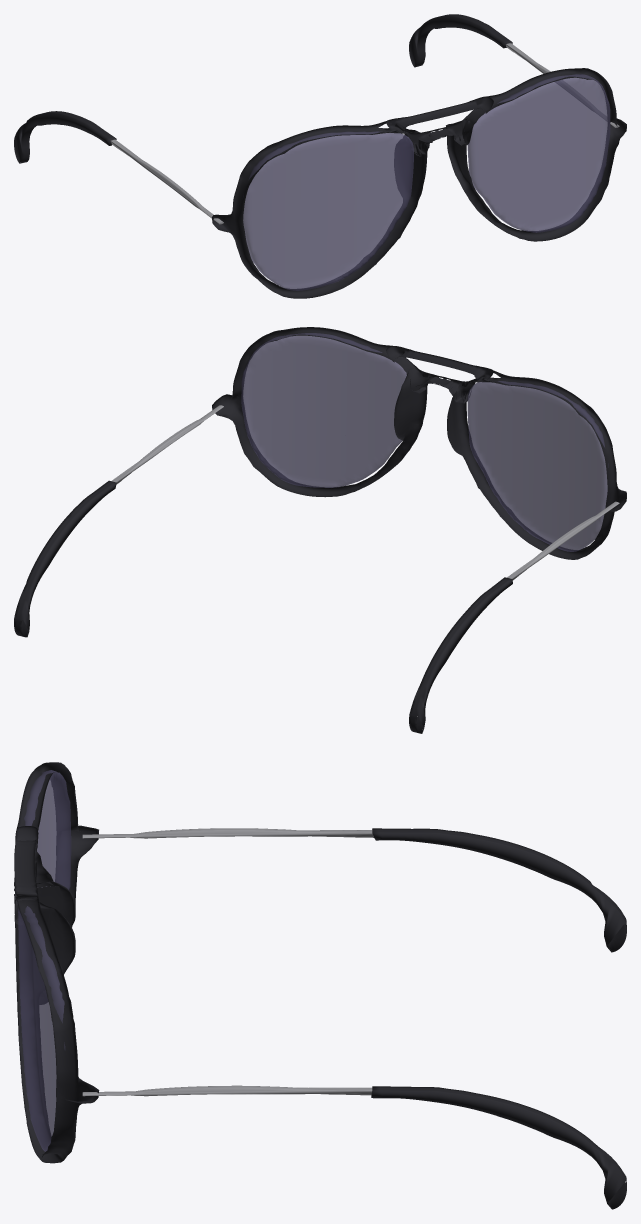
Rendered from model.plain.glb.
3 renders of one model, top to bottom at view 1: azimuth 30°, elevation 25°; view 2: azimuth 150°, elevation 25°; view 3: azimuth 270°, elevation 25°, orthographic. The views are drawn at different scales.
Parts seen in each view (by area): view 1: glass, cover_1_2, cover, cover_2, rod_2_3; view 2: glass, cover_1_2, cover, cover_2, rod_2_3; view 3: cover_1_2, glass, cover, rod_2_3, cover_2.
Part boxes in pixels (x1=…): glass: x1=243, y1=74, x2=610, y2=290; cover_1_2: x1=212, y1=68, x2=626, y2=298; cover: x1=14, y1=14, x2=512, y2=163; cover_2: x1=386, y1=96, x2=493, y2=156; rod_2_3: x1=110, y1=43, x2=619, y2=224; glass: x1=241, y1=333, x2=608, y2=551; cover_1_2: x1=212, y1=327, x2=626, y2=559; cover: x1=14, y1=480, x2=512, y2=733; cover_2: x1=386, y1=346, x2=493, y2=403; rod_2_3: x1=111, y1=405, x2=619, y2=580; cover_1_2: x1=14, y1=762, x2=99, y2=1163; glass: x1=18, y1=770, x2=71, y2=1151; cover: x1=371, y1=828, x2=626, y2=1209; rod_2_3: x1=82, y1=828, x2=373, y2=1096; cover_2: x1=14, y1=826, x2=37, y2=924.
Size of the model in its own units: 14.6 by 5.82 by 14.26.
